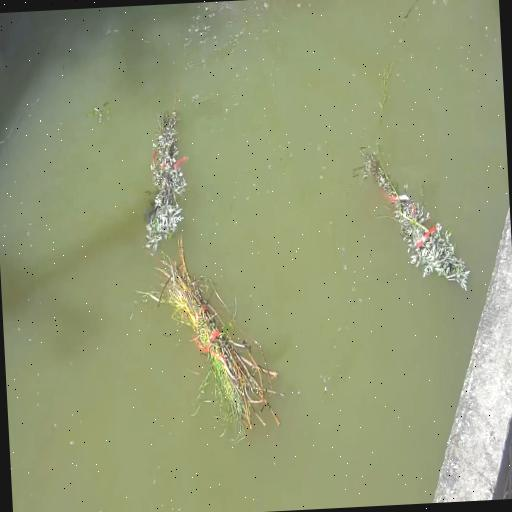twig: (147, 239, 281, 435), (353, 147, 469, 290), (146, 109, 187, 251)
